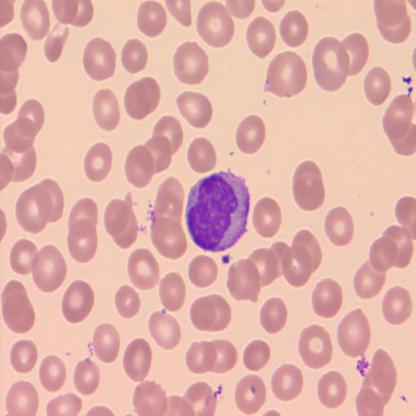Monocyte: (183, 167, 251, 254)
